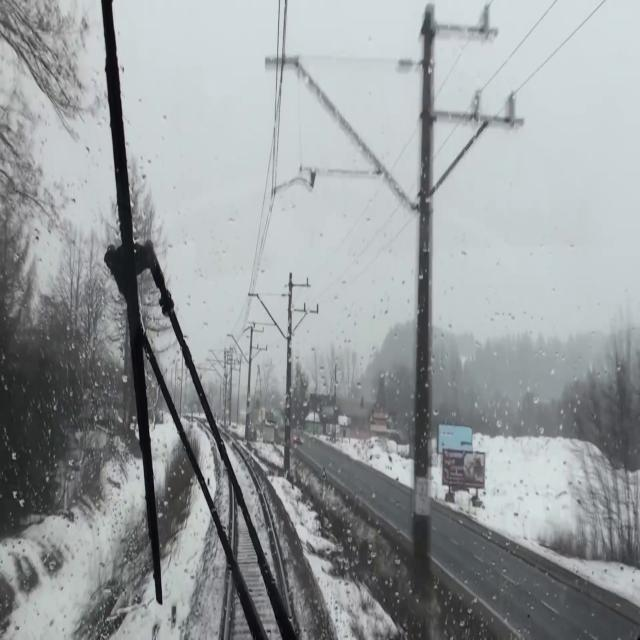rail-track: (230, 578, 253, 639)
